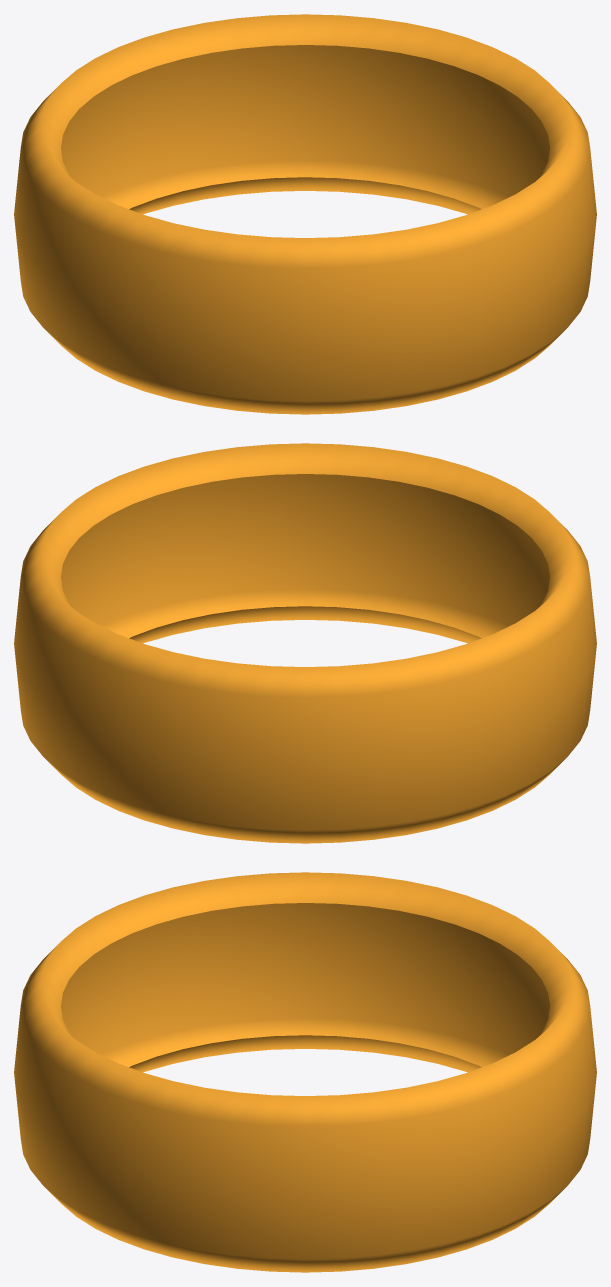
File: ThroneRoom_Curtain_Hoop.fbx
3 views of the same model, one above another, from view 1: azimuth 30°, elevation 25°; view 2: azimuth 150°, elevation 25°; view 3: azimuth 270°, elevation 25° (orthographic).
Visible parts, largest first — view 1: ThroneRoom_Curtain_Hoop; view 2: ThroneRoom_Curtain_Hoop; view 3: ThroneRoom_Curtain_Hoop.
Part boxes in pixels (x1=…): ThroneRoom_Curtain_Hoop: x1=14, y1=14, x2=596, y2=414; ThroneRoom_Curtain_Hoop: x1=14, y1=443, x2=596, y2=843; ThroneRoom_Curtain_Hoop: x1=14, y1=872, x2=596, y2=1272.
Bounding box in the file's own units: 1.35 × 0.4512 × 1.35.
